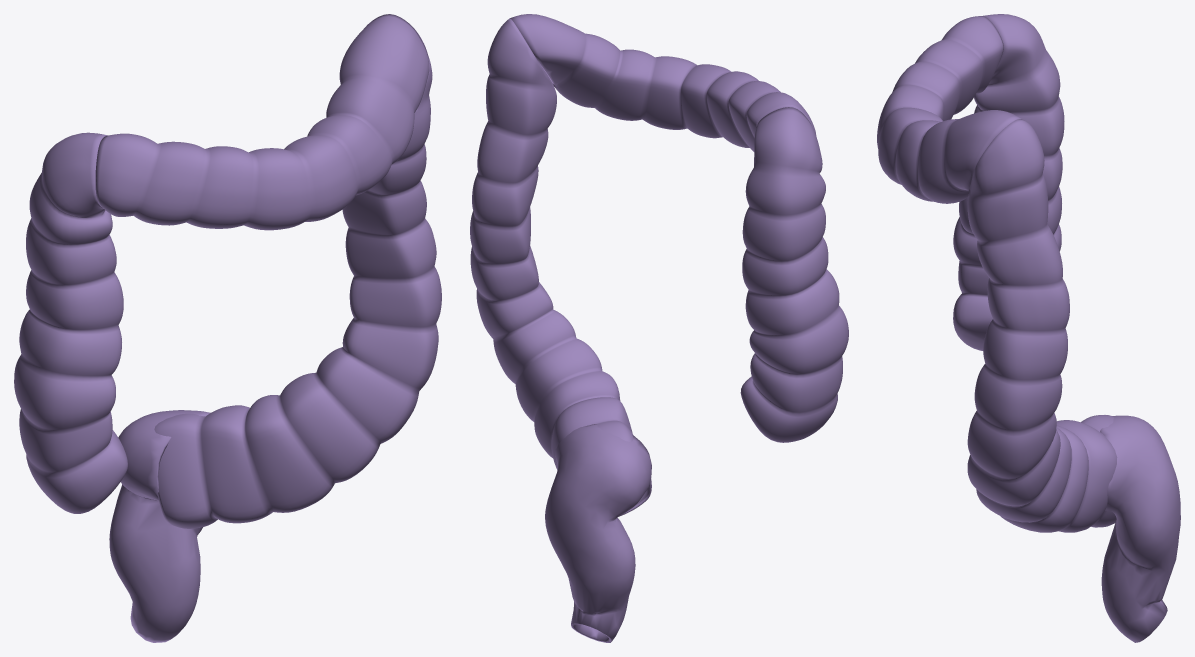
Rendered from colon.glb.
3 renders of one model, left to right at view 1: azimuth 30°, elevation 25°; view 2: azimuth 150°, elevation 25°; view 3: azimuth 270°, elevation 25°, orthographic. The views are drawn at different scales.
Visible parts, largest first — view 1: colon_descending, colon_transverse, colon_ascending, colon_sigmoid; view 2: colon_descending, colon_ascending, colon_transverse, colon_sigmoid; view 3: colon_descending, colon_transverse, colon_sigmoid, colon_ascending.
Boxes of the visible parts, bbox=[...] form: colon_descending: bbox=[154, 18, 441, 528]; colon_transverse: bbox=[95, 14, 429, 230]; colon_ascending: bbox=[14, 132, 127, 513]; colon_sigmoid: bbox=[109, 410, 210, 642]; colon_descending: bbox=[470, 18, 651, 516]; colon_ascending: bbox=[740, 107, 848, 442]; colon_transverse: bbox=[510, 14, 816, 151]; colon_sigmoid: bbox=[545, 424, 651, 642]; colon_descending: bbox=[967, 119, 1117, 532]; colon_transverse: bbox=[877, 16, 1022, 203]; colon_sigmoid: bbox=[1100, 415, 1180, 642]; colon_ascending: bbox=[953, 14, 1064, 350].
Size of the model in its own units: 0.2281 by 0.3314 by 0.1531.
